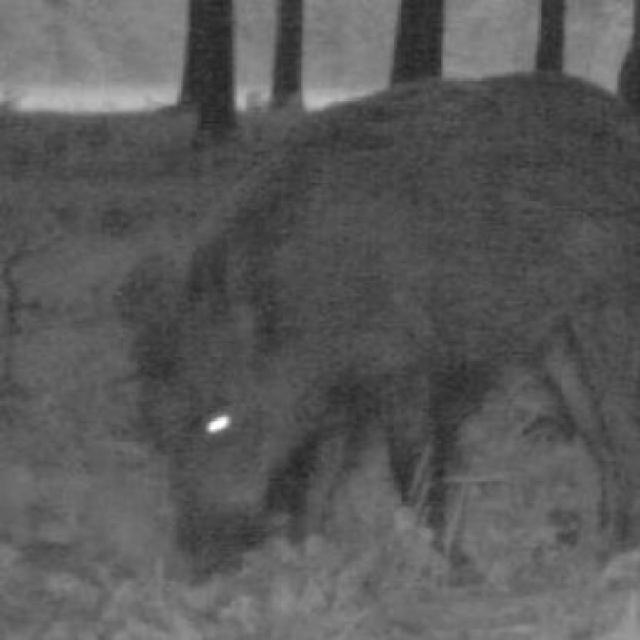Boar: (124, 52, 638, 590)
